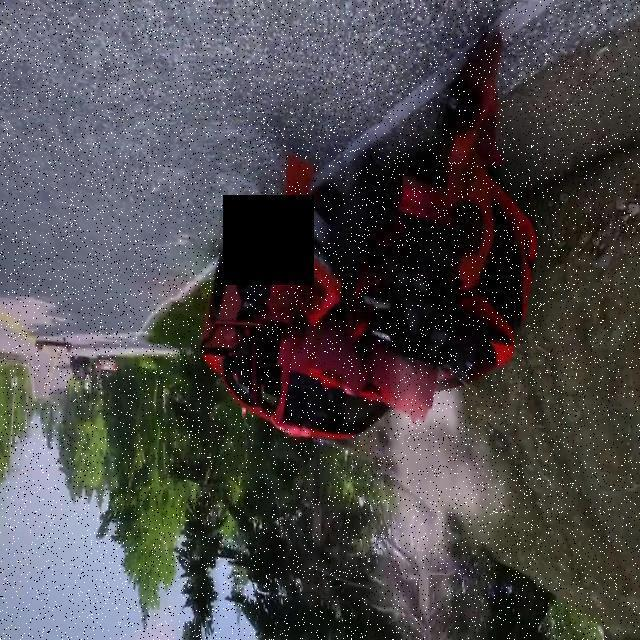vehicle: (145, 122, 606, 462)
